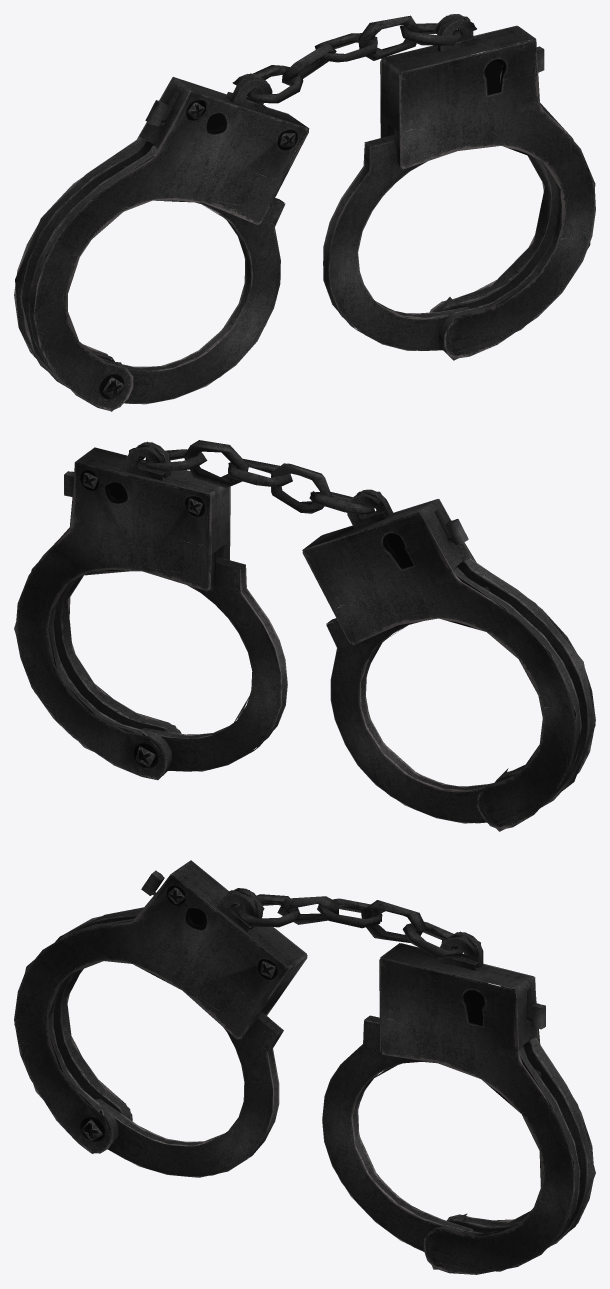
File: Handcuffs.glb
The picture shows the model from 3 angles, top to bottom: view 1: azimuth 30°, elevation 25°; view 2: azimuth 150°, elevation 25°; view 3: azimuth 330°, elevation 25°; orthographic projection.
Parts seen in each view (by area): view 1: node_id53; view 2: node_id53; view 3: node_id53.
Part boxes in pixels (x1,y1,x2,y2): node_id53: (14,14,595,411); node_id53: (14,440,595,831); node_id53: (14,860,595,1274).
Size of the model in its own units: 0.2517 by 0.1479 by 0.022.
1 material, 1 textured.
